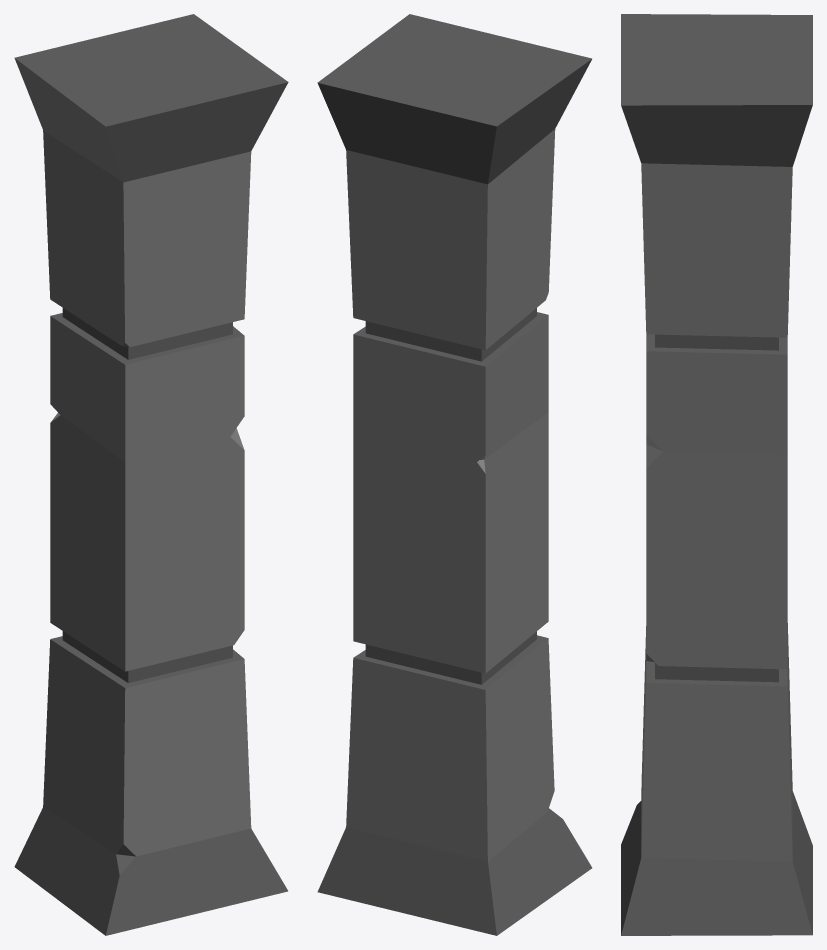
File: Pillar_02.fbx
3 views of the same model, side by side, from view 1: azimuth 30°, elevation 25°; view 2: azimuth 150°, elevation 25°; view 3: azimuth 270°, elevation 25° (orthographic). The views are drawn at different scales.
Visible parts, largest first — view 1: Pillar_02; view 2: Pillar_02; view 3: Pillar_02.
Boxes of the visible parts, bbox=[...] form: Pillar_02: bbox=[14, 14, 288, 935]; Pillar_02: bbox=[317, 14, 592, 935]; Pillar_02: bbox=[621, 14, 812, 935].
Size of the model in its own units: 59.59 by 252 by 52.76.
